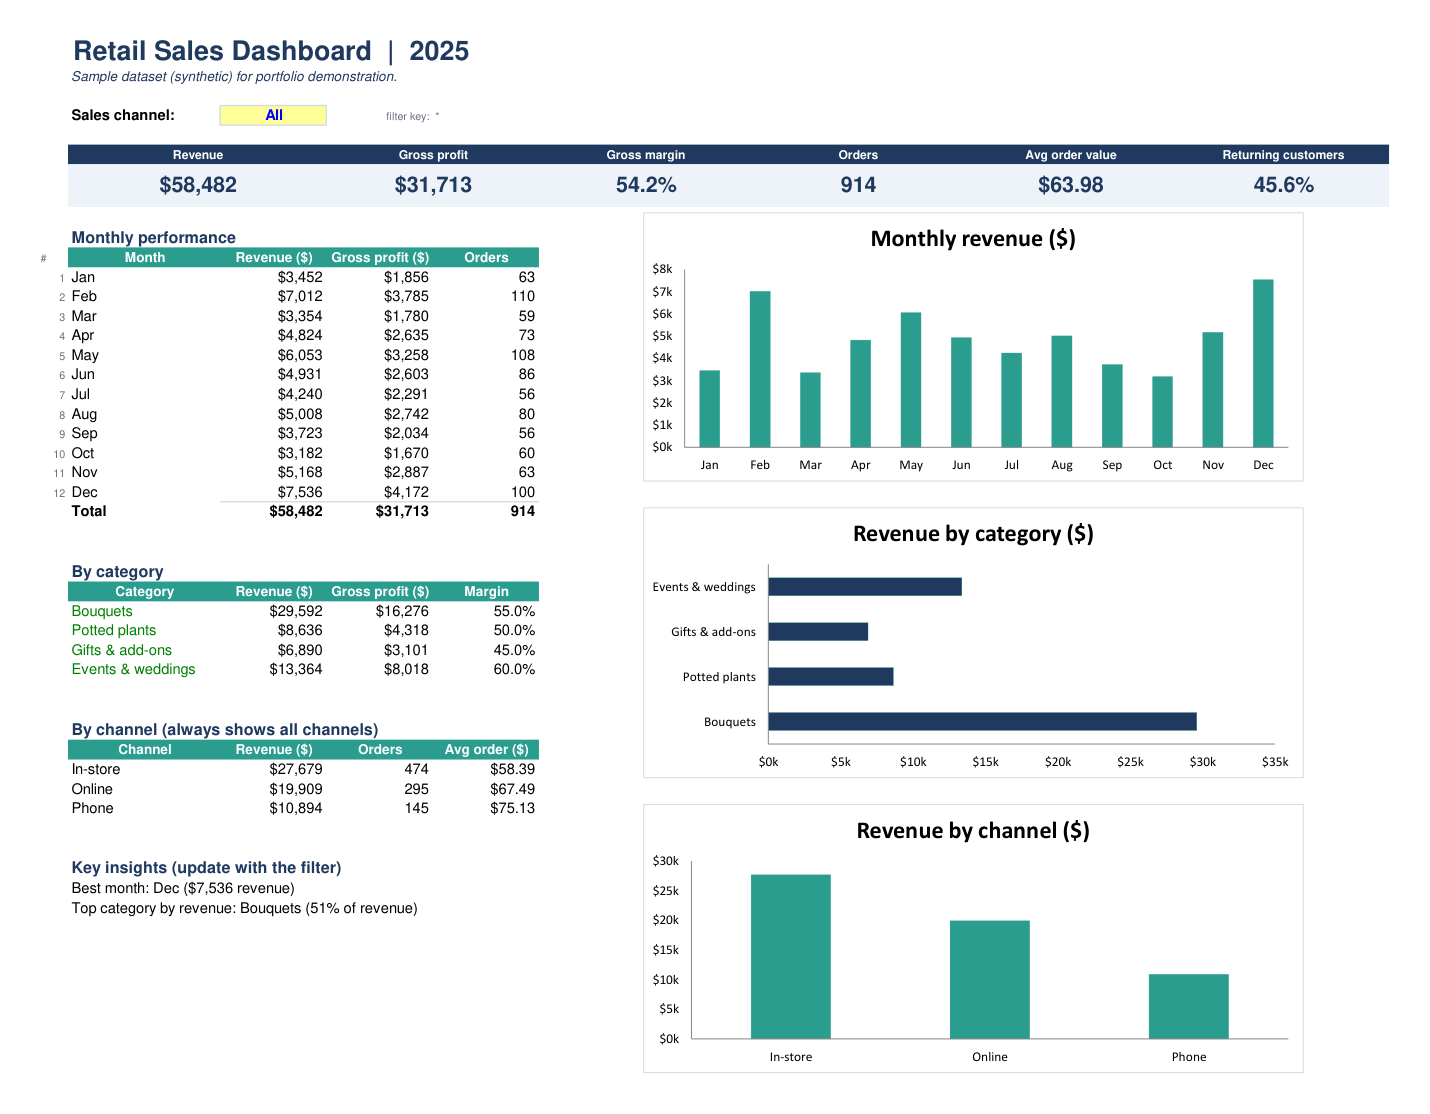

What the dashboard file says about the page in this screenshot:
{"tool":"powerbi","page":{"name":"2025","canvas":[1920,1080],"ordinal":0},"visuals":[{"type":"textbox","box":[20,28,1510,164],"z":0},{"type":"cardVisual","fields":{"Data":["Categories.Revenue"]},"box":[0,156,202,122],"z":1000},{"type":"cardVisual","fields":{"Data":["Categories.Gross Profit"]},"box":[0,304,202,122],"z":2000},{"type":"cardVisual","fields":{"Data":["Categories.Gross Margin %"]},"box":[218,304,202,122],"z":3000},{"type":"cardVisual","fields":{"Data":["Categories.Orders Count"]},"box":[2,444,202,122],"z":4000},{"type":"cardVisual","fields":{"Data":["Categories.Avg Order Value"]},"box":[218,444,204,122],"z":5000},{"type":"cardVisual","fields":{"Data":["Categories.Returning Share"]},"box":[218,156,202,122],"z":6000},{"type":"barChart","fields":{"Category":["Orders.Channel"],"Y":["Categories.Revenue"]},"box":[460,156,1410,376],"z":7000},{"type":"columnChart","fields":{"Category":["Date.Month"],"Y":["Categories.Revenue"]},"box":[460,566,680,514],"z":8000},{"type":"clusteredColumnChart","fields":{"Category":["Orders.Category"],"Y":["Categories.Revenue","Categories.Gross Profit"]},"box":[1190,566,680,514],"z":10000},{"type":"slicer","fields":{"Values":["Orders.Channel"]},"box":[0,624,422,380],"z":11000}]}

Visuals, with their boxes on the page's 1920x1080 design canvas (x1, y1, x2, y2). These are canvas units, not pixel positions in the 1430x1114 screenshot, which may show the page scaled, cropped or inside an application window:
textbox: <bbox>20, 28, 1530, 192</bbox>
cardVisual - Categories.Revenue: <bbox>0, 156, 202, 278</bbox>
cardVisual - Categories.Gross Profit: <bbox>0, 304, 202, 426</bbox>
cardVisual - Categories.Gross Margin %: <bbox>218, 304, 420, 426</bbox>
cardVisual - Categories.Orders Count: <bbox>2, 444, 204, 566</bbox>
cardVisual - Categories.Avg Order Value: <bbox>218, 444, 422, 566</bbox>
cardVisual - Categories.Returning Share: <bbox>218, 156, 420, 278</bbox>
barChart - Orders.Channel x Categories.Revenue: <bbox>460, 156, 1870, 532</bbox>
columnChart - Date.Month x Categories.Revenue: <bbox>460, 566, 1140, 1080</bbox>
clusteredColumnChart - Orders.Category x Categories.Revenue: <bbox>1190, 566, 1870, 1080</bbox>
slicer - Orders.Channel: <bbox>0, 624, 422, 1004</bbox>
